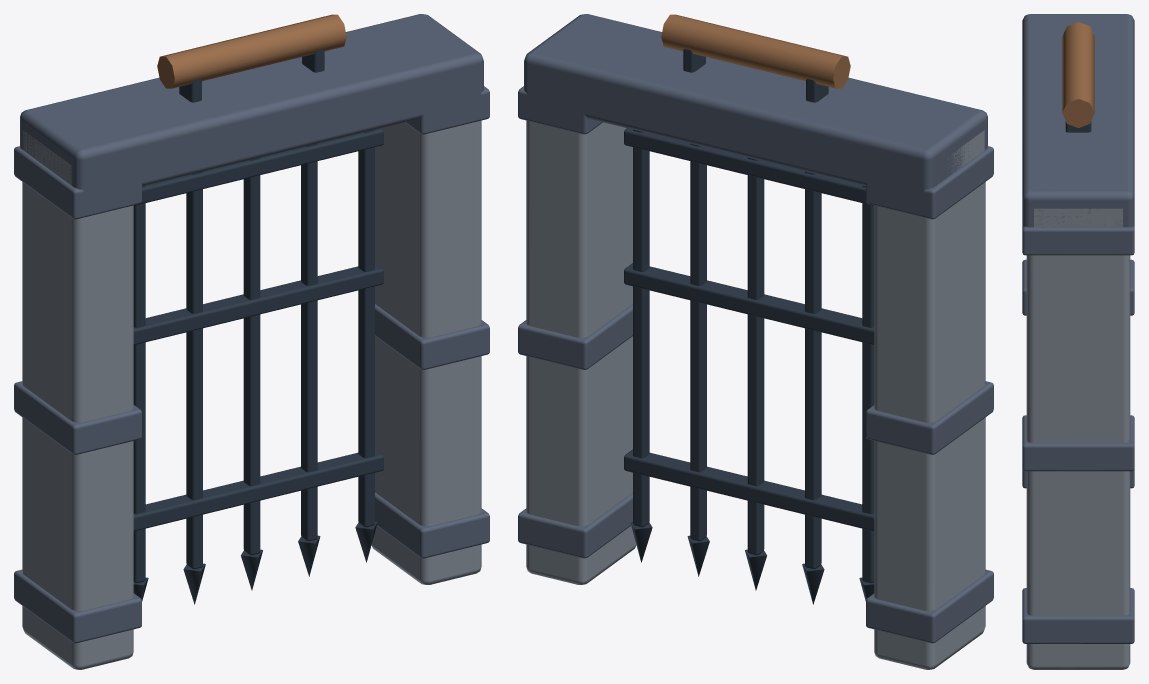
The model's file is iron-portcullis.glb.
3 renders of one model, left to right at view 1: azimuth 30°, elevation 25°; view 2: azimuth 150°, elevation 25°; view 3: azimuth 270°, elevation 25°, orthographic. The views are drawn at different scales.
Parts seen in each view (by area): view 1: pier--0.85, pier-0.85, lintel, windlass, bar-2, bar-3, bar-4, bar-1, crossbar-0.53, crossbar-1.4, crossbar-2.05, bar-0 (+6 smaller); view 2: pier--0.85, pier-0.85, lintel, windlass, bar-2, bar-3, bar-4, bar-1, crossbar-0.53, crossbar-1.4, crossbar-2.05, bar-0 (+6 smaller); view 3: pier-0.85, lintel, pier-band-0.85-1.1, pier-band-0.85-0.22, pier-band-0.85-2.2, windlass, pier-band--0.85-1.1, windlass-bracket-0.3.
Boxes of the visible parts, x1,y1,x2,y2 form: pier--0.85: [22, 130, 133, 669]; pier-0.85: [371, 120, 481, 584]; lintel: [20, 14, 483, 192]; windlass: [157, 14, 346, 88]; bar-2: [243, 157, 260, 555]; bar-3: [301, 143, 317, 541]; bar-4: [358, 129, 374, 527]; bar-1: [186, 171, 202, 569]; crossbar-0.53: [133, 449, 383, 531]; crossbar-1.4: [133, 263, 383, 344]; crossbar-2.05: [133, 128, 383, 205]; bar-0: [133, 185, 145, 583]; pier--0.85: [874, 130, 985, 669]; pier-0.85: [526, 120, 636, 584]; lintel: [524, 14, 987, 191]; windlass: [661, 14, 850, 88]; bar-2: [747, 157, 764, 555]; bar-3: [690, 143, 706, 541]; bar-4: [633, 129, 649, 527]; bar-1: [805, 171, 821, 569]; crossbar-0.53: [624, 449, 874, 531]; crossbar-1.4: [624, 263, 874, 344]; crossbar-2.05: [624, 128, 874, 205]; bar-0: [862, 185, 874, 583]; pier-0.85: [1026, 208, 1130, 669]; lintel: [1022, 14, 1134, 227]; pier-band-0.85-1.1: [1022, 415, 1134, 471]; pier-band-0.85-0.22: [1022, 588, 1134, 643]; pier-band-0.85-2.2: [1022, 226, 1134, 255]; windlass: [1062, 22, 1094, 127]; pier-band--0.85-1.1: [1022, 259, 1134, 315]; windlass-bracket-0.3: [1065, 121, 1091, 132].
Bounding box in the file's own units: 2.04 × 2.66 × 0.52.
